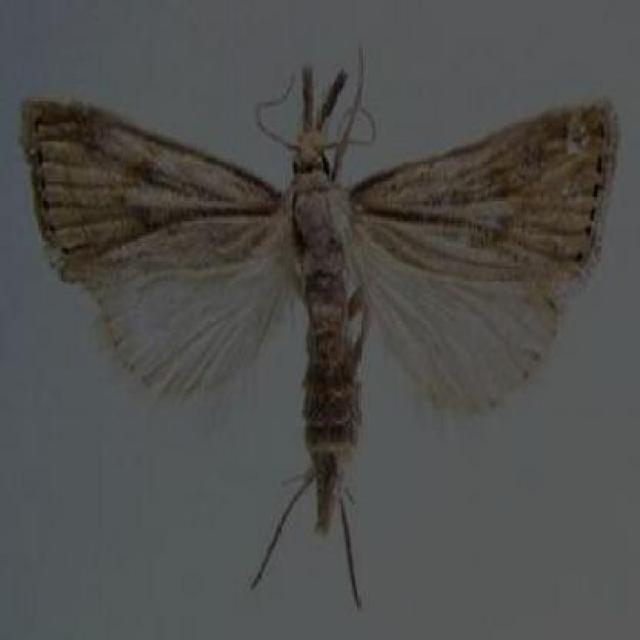stem-borer: (20, 39, 622, 613)
